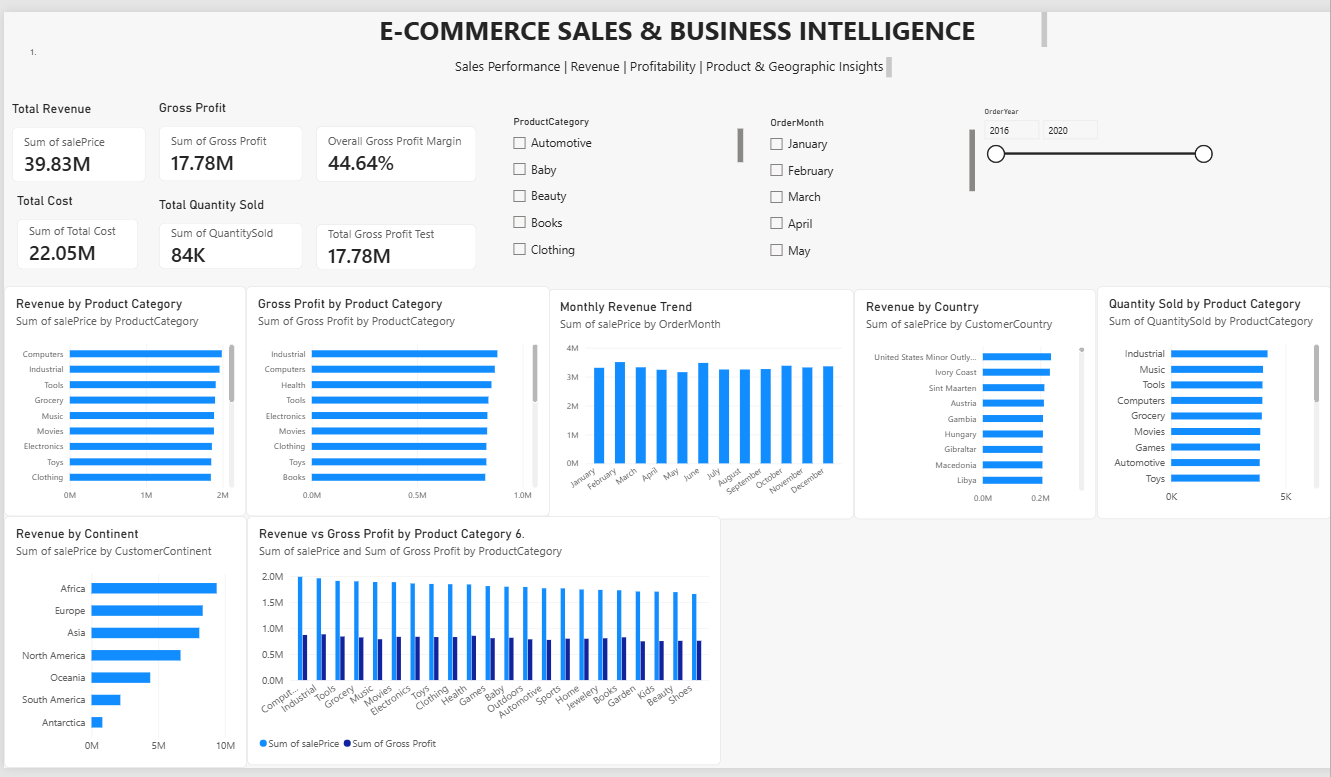

Layout of this report page (visuals, bound fields, positions):
{"tool":"powerbi","page":{"name":"Page 1","canvas":[1920,1080],"ordinal":0},"visuals":[{"type":"cardVisual","title":"Total Revenue","fields":{"Data":["Sum(E-Commerce Dataset.salePrice)"]},"box":[11.5,126.5,191.1,116.4],"z":0},{"type":"cardVisual","title":"Total Cost","fields":{"Data":["Sum(E-Commerce Dataset.Total Cost)"]},"box":[18.7,258.7,173.9,109.2],"z":1000},{"type":"cardVisual","title":"Gross Profit","fields":{"Data":["Sum(E-Commerce Dataset.Gross Profit)"]},"box":[221.5,126.2,205.4,116.2],"z":2000},{"type":"cardVisual","title":"Total Quantity Sold","fields":{"Data":["Sum(E-Commerce Dataset.QuantitySold)"]},"box":[221.3,264.4,205.5,103.5],"z":3000},{"type":"clusteredBarChart","title":"Revenue by Product Category","fields":{"Category":["E-Commerce Dataset.ProductCategory"],"Y":["Sum(E-Commerce Dataset.salePrice)"]},"box":[0,390.9,346.3,329.1],"z":4000},{"type":"clusteredBarChart","title":"Revenue by Country","fields":{"Category":["E-Commerce Dataset.CustomerCountry"],"Y":["Sum(E-Commerce Dataset.salePrice)"]},"box":[1214.4,395.2,346.3,329.1],"z":5000},{"type":"clusteredColumnChart","title":"Monthly Revenue Trend","fields":{"Category":["E-Commerce Dataset.OrderMonth"],"Y":["Sum(E-Commerce Dataset.salePrice)"]},"box":[777.5,395.2,436.9,329.1],"z":6000},{"type":"clusteredBarChart","title":"Gross Profit by Product Category","fields":{"Category":["E-Commerce Dataset.ProductCategory"],"Y":["Sum(E-Commerce Dataset.Gross Profit)"]},"box":[346.3,390.9,434,329.1],"z":7000},{"type":"cardVisual","fields":{"Data":["E-Commerce Dataset.Overall Gross Profit Margin"]},"box":[445.4,162.3,229.2,80],"z":8000},{"type":"cardVisual","fields":{"Data":["E-Commerce Dataset.Total Gross Profit Test"]},"box":[445.4,302.3,229.2,65.4],"z":9000},{"type":"clusteredBarChart","title":"Quantity Sold by Product Category","fields":{"Category":["E-Commerce Dataset.ProductCategory"],"Y":["Sum(E-Commerce Dataset.QuantitySold)"]},"box":[1560.7,390.9,334.9,333.4],"z":10000},{"type":"clusteredBarChart","title":"Revenue by Continent","fields":{"Category":["E-Commerce Dataset.CustomerContinent"],"Y":["Sum(E-Commerce Dataset.salePrice)"]},"box":[0,720,346.7,360],"z":11000},{"type":"textbox","box":[36.7,0,1453.3,65],"z":12000},{"type":"textbox","box":[643.8,64.7,623.7,35.9],"z":13000},{"type":"slicer","title":"Product Category","fields":{"Values":["E-Commerce Dataset.ProductCategory"]},"box":[720,148,336.3,219.9],"z":14000},{"type":"slicer","fields":{"Values":["E-Commerce Dataset.OrderMonth"]},"box":[1086.5,149.5,300.4,218.4],"z":15000},{"type":"slicer","fields":{"Values":["E-Commerce Dataset.OrderYear"]},"box":[1392.6,135.1,336.3,129.3],"z":16000},{"type":"clusteredColumnChart","title":"Revenue vs Gross Profit by Product Category 6.","fields":{"Category":["E-Commerce Dataset.ProductCategory"],"Y":["Sum(E-Commerce Dataset.salePrice)","Sum(E-Commerce Dataset.Gross Profit)"]},"box":[346.7,720,676.9,356.4],"z":17000}]}

Visuals, with their boxes on the page's 1920x1080 design canvas (x1, y1, x2, y2). These are canvas units, not pixel positions in the 1331x777 screenshot, which may show the page scaled, cropped or inside an application window:
"Total Revenue" cardVisual: [left=12, top=126, right=203, bottom=243]
"Total Cost" cardVisual: [left=19, top=259, right=193, bottom=368]
"Gross Profit" cardVisual: [left=222, top=126, right=427, bottom=242]
"Total Quantity Sold" cardVisual: [left=221, top=264, right=427, bottom=368]
"Revenue by Product Category" clusteredBarChart: [left=0, top=391, right=346, bottom=720]
"Revenue by Country" clusteredBarChart: [left=1214, top=395, right=1561, bottom=724]
"Monthly Revenue Trend" clusteredColumnChart: [left=778, top=395, right=1214, bottom=724]
"Gross Profit by Product Category" clusteredBarChart: [left=346, top=391, right=780, bottom=720]
cardVisual - E-Commerce Dataset.Overall Gross Profit Margin: [left=445, top=162, right=675, bottom=242]
cardVisual - E-Commerce Dataset.Total Gross Profit Test: [left=445, top=302, right=675, bottom=368]
"Quantity Sold by Product Category" clusteredBarChart: [left=1561, top=391, right=1896, bottom=724]
"Revenue by Continent" clusteredBarChart: [left=0, top=720, right=347, bottom=1080]
textbox: [left=37, top=0, right=1490, bottom=65]
textbox: [left=644, top=65, right=1268, bottom=101]
"Product Category" slicer: [left=720, top=148, right=1056, bottom=368]
slicer - E-Commerce Dataset.OrderMonth: [left=1086, top=150, right=1387, bottom=368]
slicer - E-Commerce Dataset.OrderYear: [left=1393, top=135, right=1729, bottom=264]
"Revenue vs Gross Profit by Product Category 6." clusteredColumnChart: [left=347, top=720, right=1024, bottom=1076]
